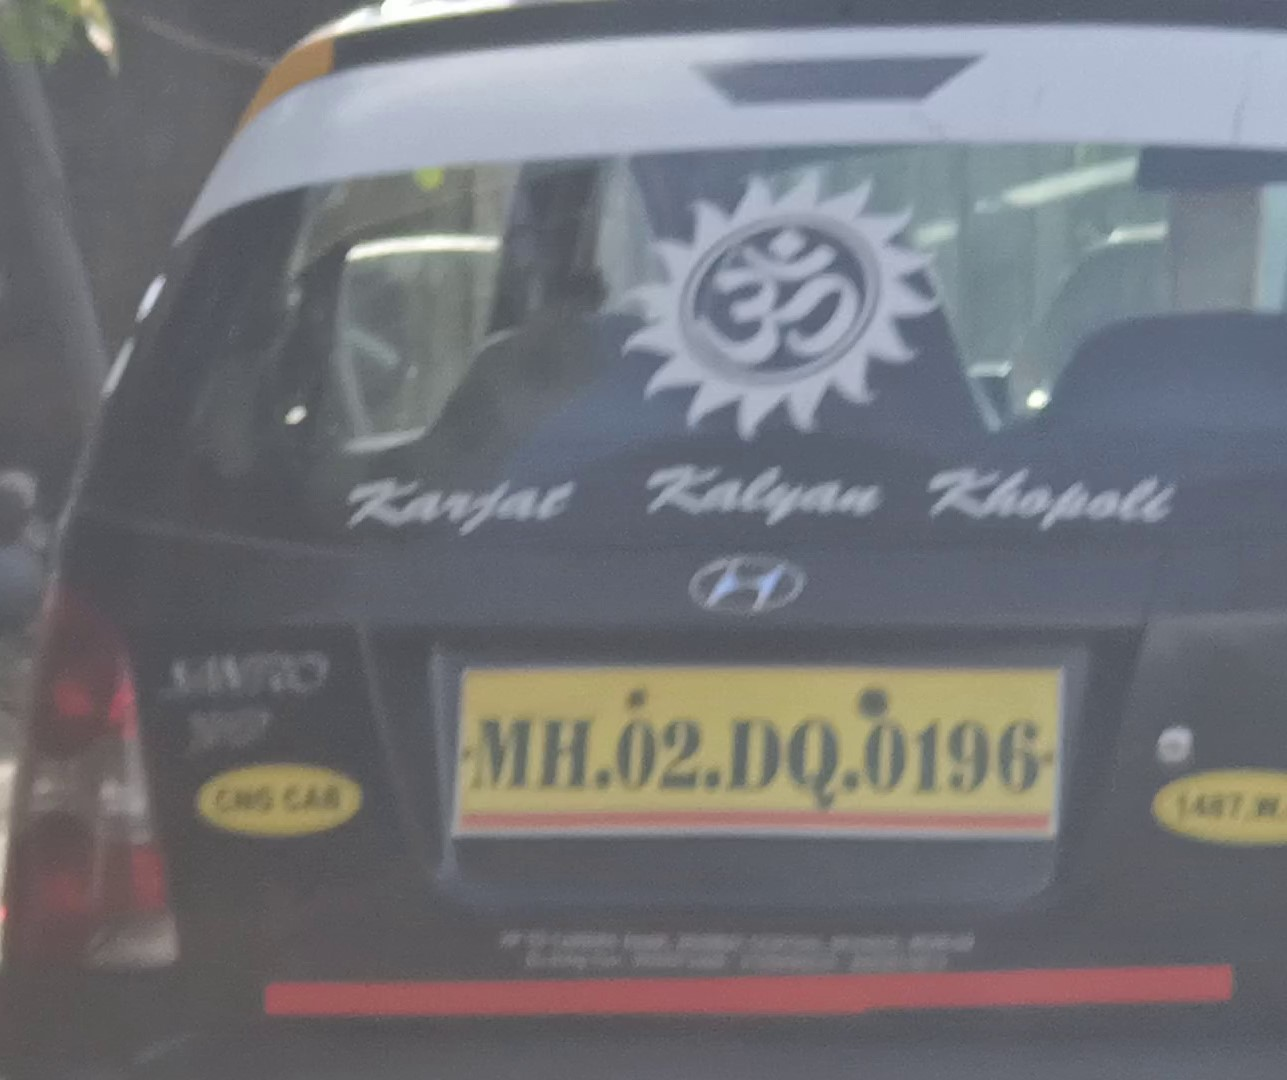MH02DQ0196: (455, 663, 1063, 843)
